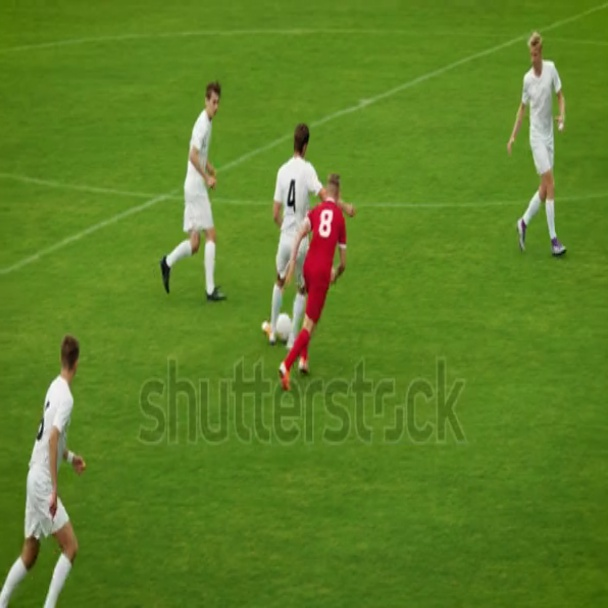ball: (277, 309, 293, 344)
